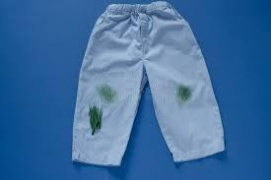earth: (88, 107, 102, 132), (102, 86, 115, 101), (178, 87, 189, 101)
